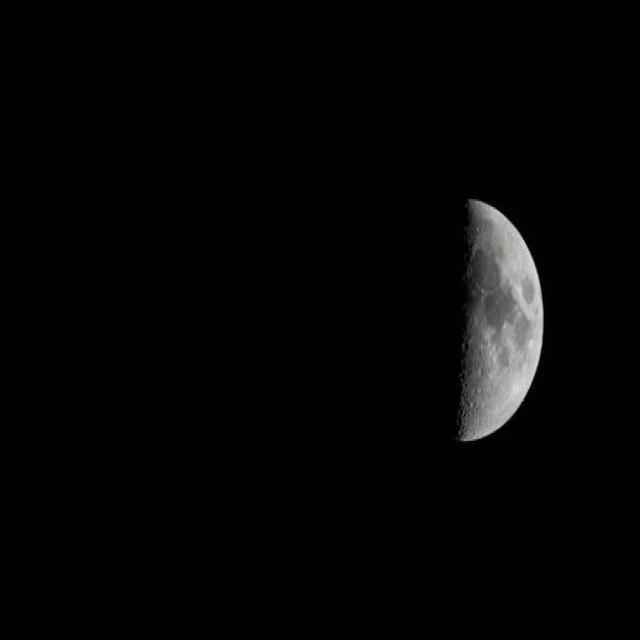moon: (390, 199, 542, 444)
